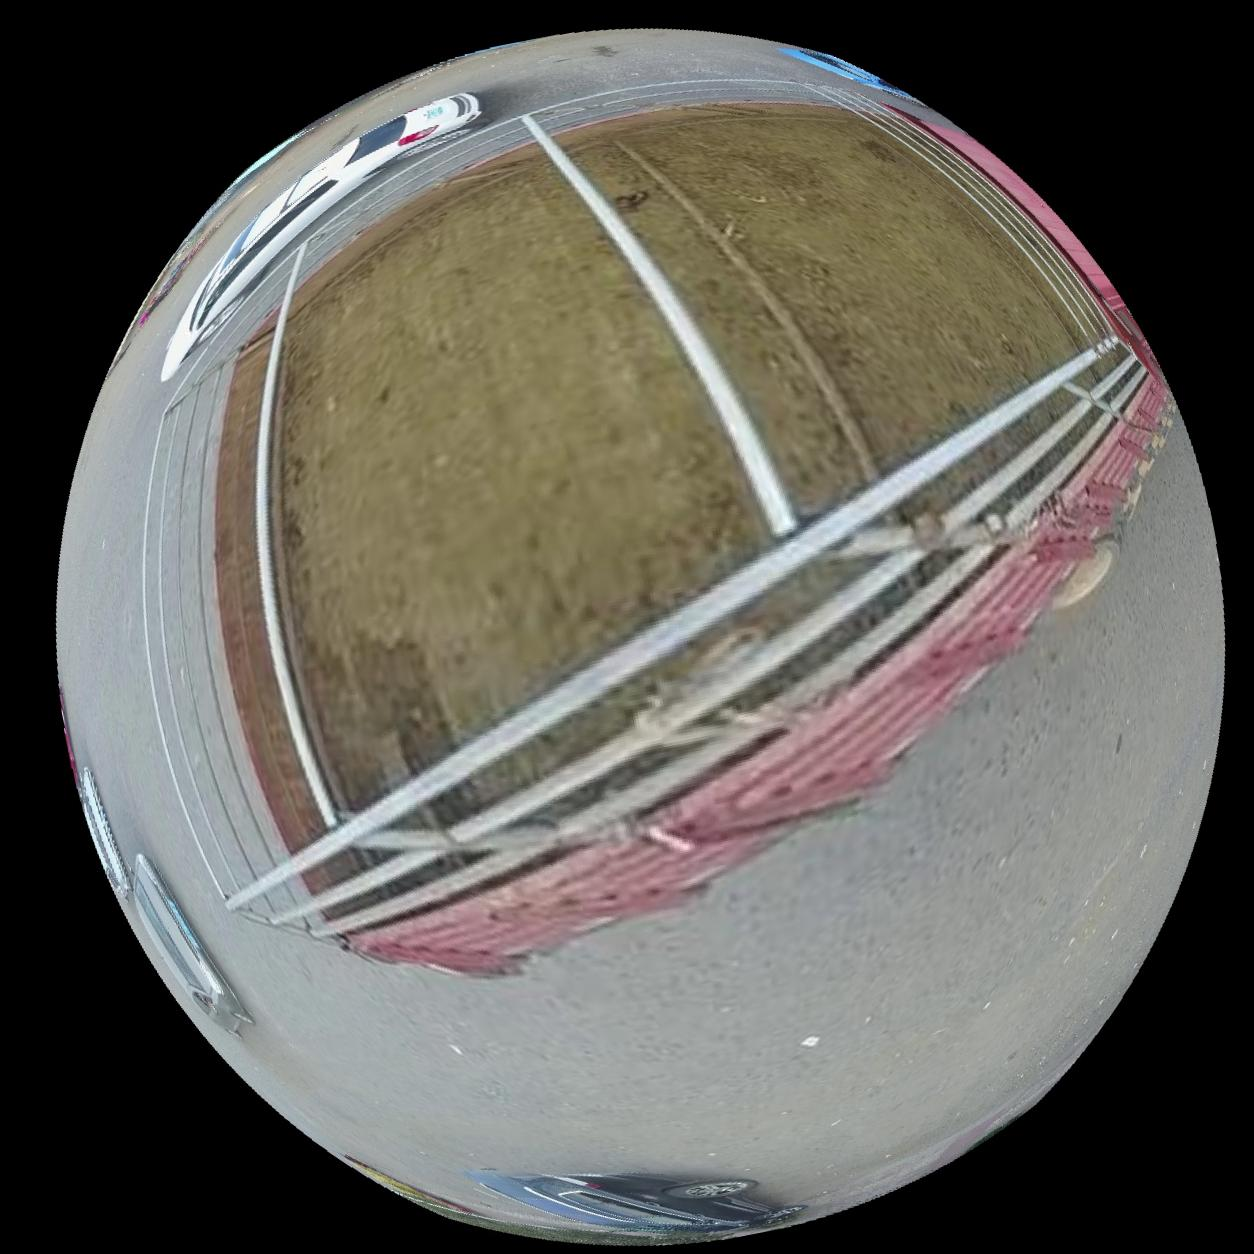cars: (161, 88, 480, 378), (466, 1170, 804, 1241), (131, 853, 250, 1034)
